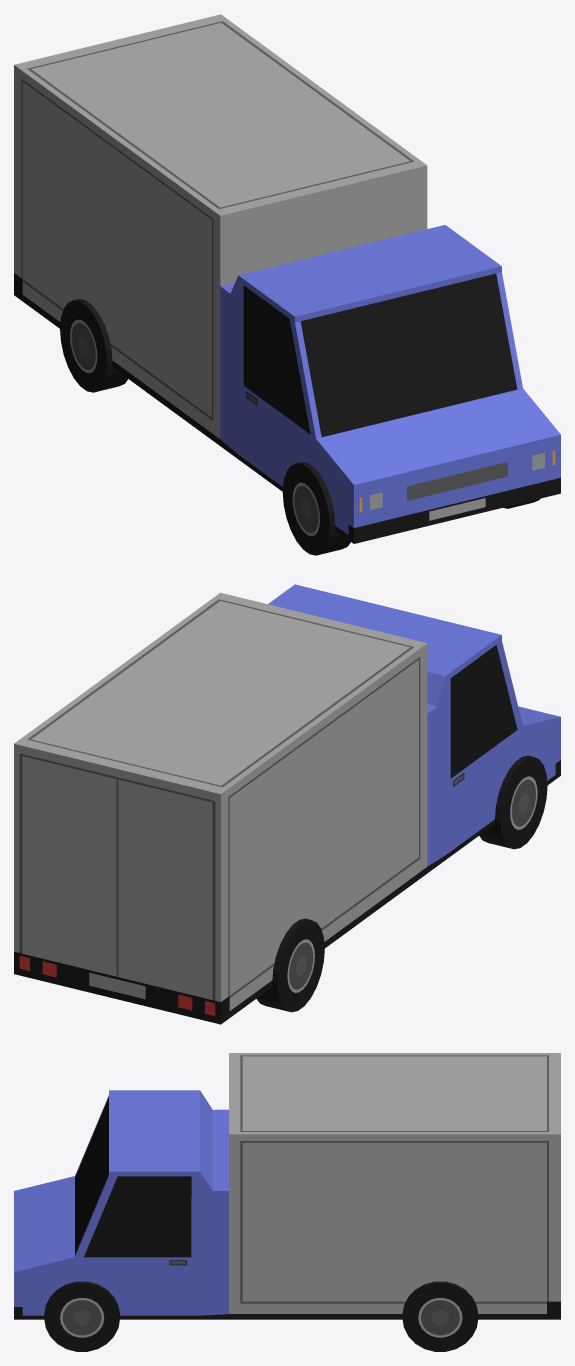
The model's file is SM_Vehicle03.fbx.
3 views of the same model, one above another, from view 1: azimuth 30°, elevation 25°; view 2: azimuth 150°, elevation 25°; view 3: azimuth 270°, elevation 25° (orthographic). The views are drawn at different scales.
Parts seen in each view (by area): view 1: SM_Vehicle03; view 2: SM_Vehicle03; view 3: SM_Vehicle03.
Part boxes in pixels (<box>): SM_Vehicle03: <box>14,14,560,555</box>; SM_Vehicle03: <box>14,584,560,1024</box>; SM_Vehicle03: <box>14,1053,560,1351</box>.
Bounding box in the file's own units: 116 × 136 × 313.
